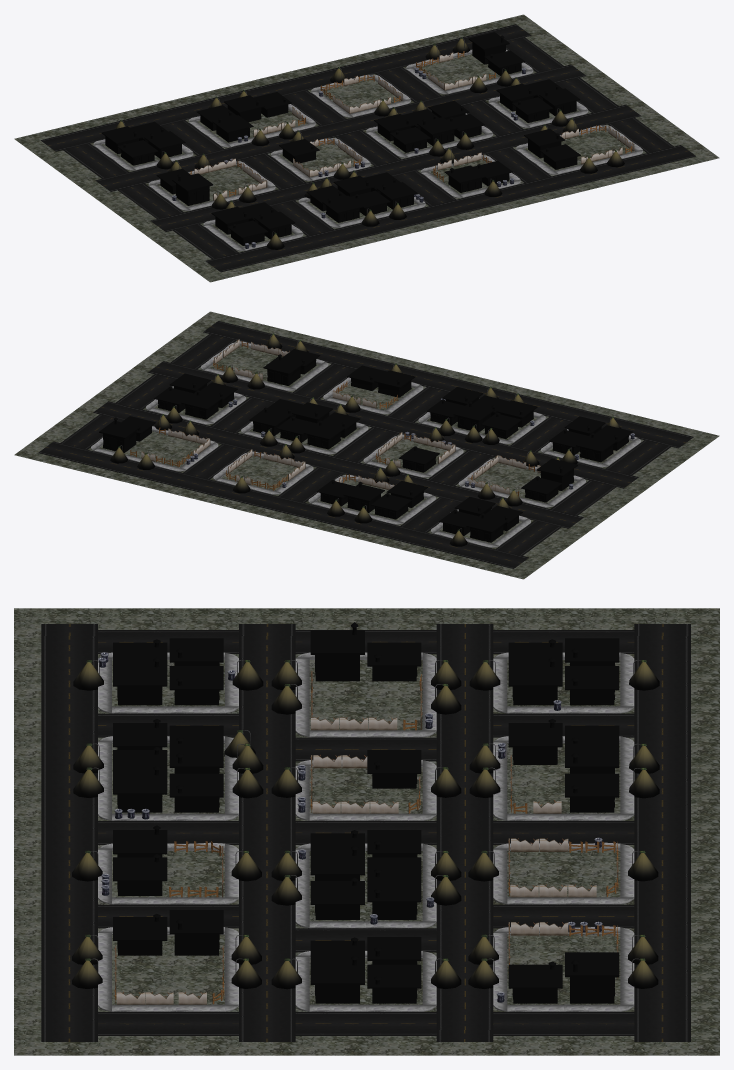
Rendered from gm14_environment_01.FBX.
3 views of the same model, one above another, from view 1: azimuth 30°, elevation 25°; view 2: azimuth 150°, elevation 25°; view 3: azimuth 270°, elevation 25° (orthographic). The views are drawn at different scales.
Parts seen in each view (by area): view 1: env_road_2x_007, env_ground_02, env_house_01, env_ground_036, fx_light_002, prp_wall_034, env_ground_corner_016, prp_fence_01, prp_trash_002, prp_lamppost_002; view 2: env_road_2x_007, env_ground_02, env_house_01, env_ground_036, fx_light_002, prp_wall_034, env_ground_corner_016, prp_fence_01, prp_lamppost_002; view 3: env_road_2x_007, env_ground_02, env_house_01, env_ground_036, fx_light_002, prp_wall_034, env_ground_corner_016, prp_fence_01, prp_trash_002, prp_lamppost_002.
Part boxes in pixels (bbox=[...]): env_road_2x_007: bbox=[41, 24, 695, 272]; env_ground_02: bbox=[14, 14, 719, 282]; env_house_01: bbox=[101, 32, 580, 245]; env_ground_036: bbox=[94, 49, 642, 250]; fx_light_002: bbox=[115, 38, 624, 249]; prp_wall_034: bbox=[194, 52, 634, 200]; env_ground_corner_016: bbox=[93, 65, 643, 250]; prp_fence_01: bbox=[189, 51, 632, 196]; prp_trash_002: bbox=[172, 67, 525, 248]; prp_lamppost_002: bbox=[120, 37, 616, 236]; env_road_2x_007: bbox=[38, 321, 693, 568]; env_ground_02: bbox=[14, 311, 719, 579]; env_house_01: bbox=[99, 349, 632, 542]; env_ground_036: bbox=[92, 341, 640, 547]; fx_light_002: bbox=[110, 335, 620, 546]; prp_wall_034: bbox=[141, 339, 540, 494]; env_ground_corner_016: bbox=[91, 341, 640, 547]; prp_fence_01: bbox=[130, 341, 534, 496]; prp_lamppost_002: bbox=[118, 333, 613, 533]; env_road_2x_007: bbox=[41, 624, 690, 1041]; env_ground_02: bbox=[14, 608, 719, 1055]; env_house_01: bbox=[113, 622, 619, 1003]; env_ground_036: bbox=[98, 652, 634, 1011]; fx_light_002: bbox=[72, 662, 659, 989]; prp_wall_034: bbox=[114, 671, 618, 1004]; env_ground_corner_016: bbox=[98, 652, 634, 1011]; prp_fence_01: bbox=[114, 674, 618, 1004]; prp_trash_002: bbox=[98, 652, 602, 1002]; prp_lamppost_002: bbox=[85, 660, 646, 974].
Size of what is drawn, in the model's own units: 75 by 3.4 by 50.
7 materials, 6 textured.
